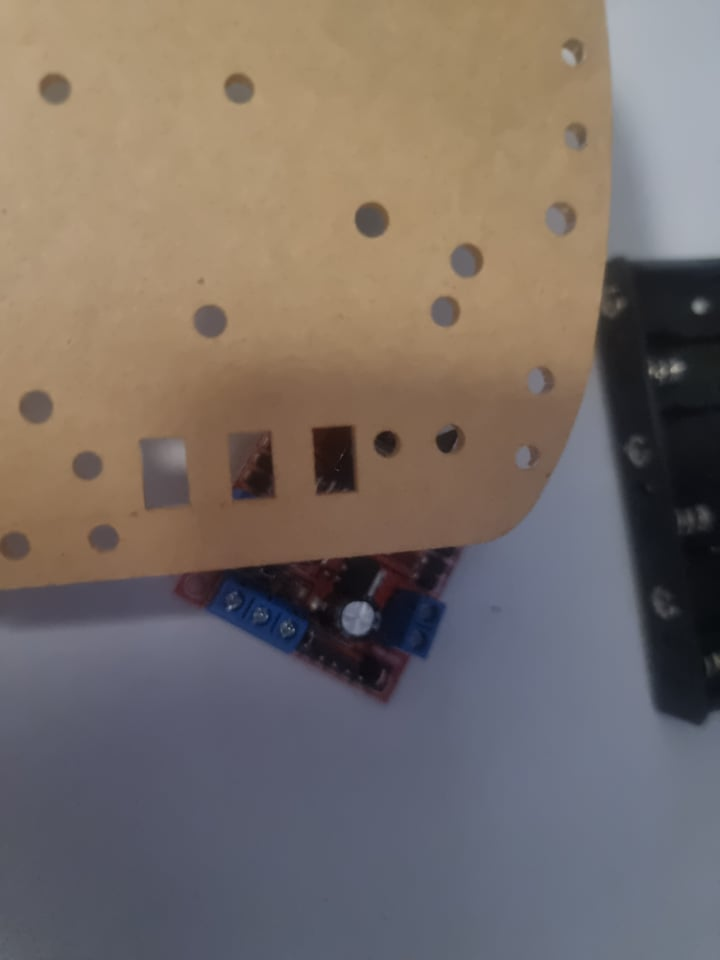BATTERY BOX: (590, 238, 720, 731)
MOTOR: (158, 438, 469, 708)
